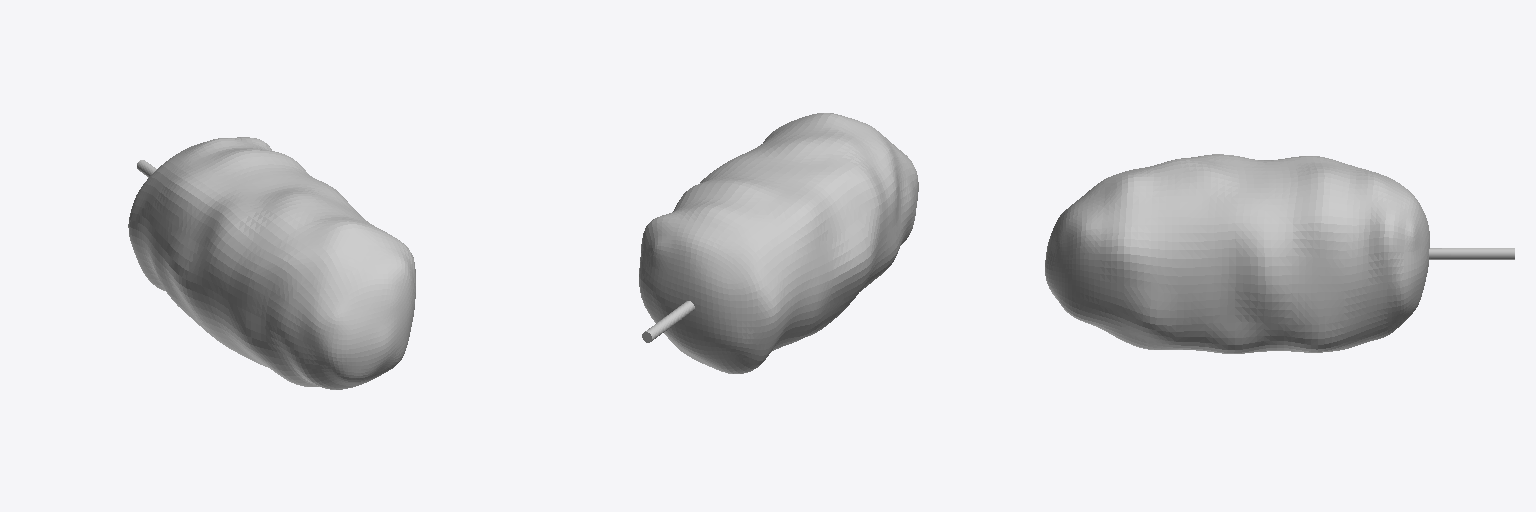
The model's file is 10459_White_Ash_Tree_v1_L3.obj.
3 views of the same model, side by side, from view 1: azimuth 30°, elevation 25°; view 2: azimuth 150°, elevation 25°; view 3: azimuth 270°, elevation 25° (orthographic).
Visible parts, largest first — view 1: 10459_White_Ash_Tree_v1_SG; view 2: 10459_White_Ash_Tree_v1_SG; view 3: 10459_White_Ash_Tree_v1_SG.
Boxes of the visible parts, box(x1,y1,x2,y2) form: 10459_White_Ash_Tree_v1_SG: box(128, 137, 415, 389); 10459_White_Ash_Tree_v1_SG: box(639, 113, 918, 373); 10459_White_Ash_Tree_v1_SG: box(1045, 154, 1514, 353).
Size of the model in its own units: 252 by 241 by 592.